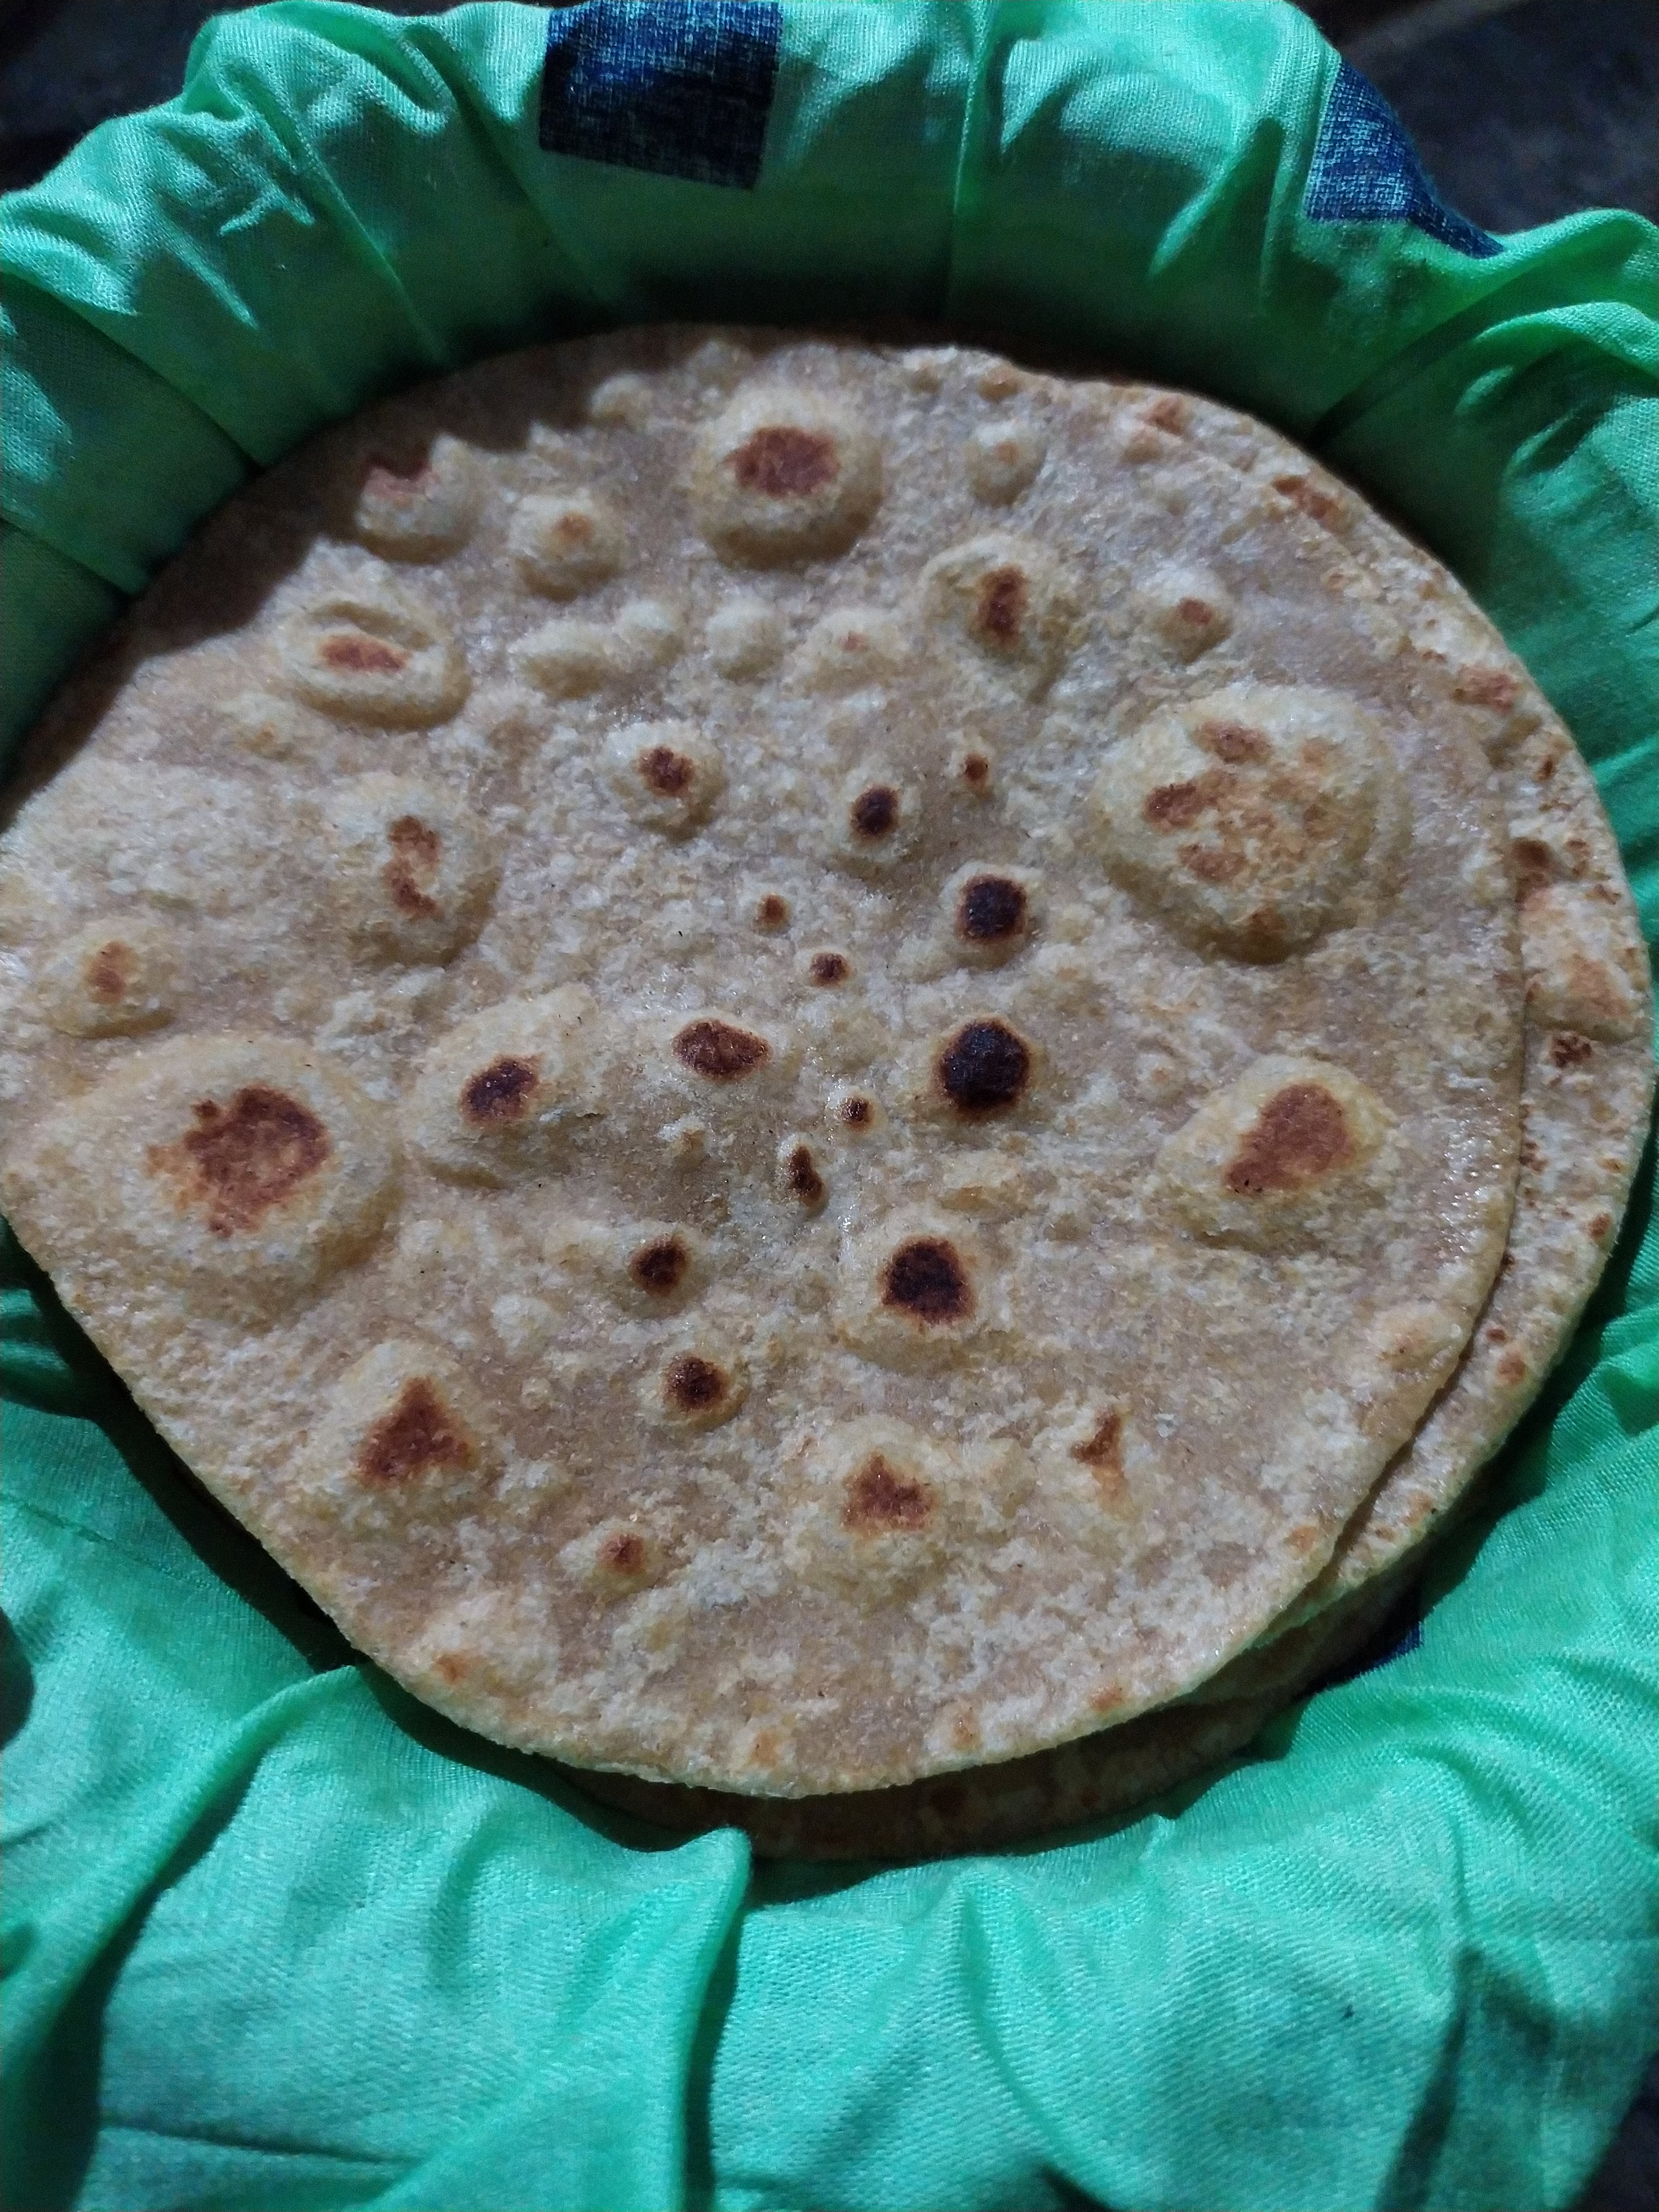food: (0, 300, 1659, 1874)
